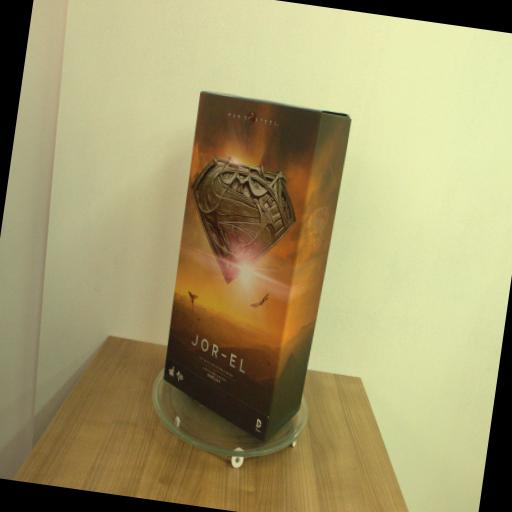superman: (152, 88, 354, 448)
